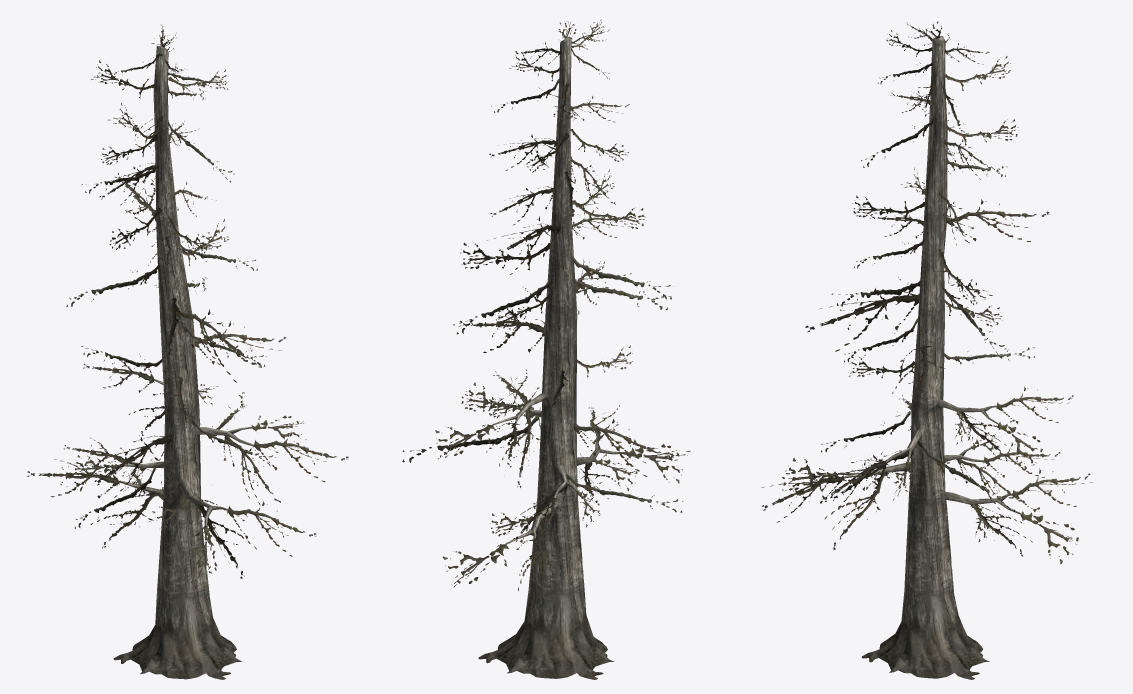
Rendered from tree_dry01.glb.
3 renders of one model, left to right at view 1: azimuth 30°, elevation 25°; view 2: azimuth 150°, elevation 25°; view 3: azimuth 270°, elevation 25°, orthographic. The views are drawn at different scales.
Parts seen in each view (by area): view 1: 0_arbre01_b; view 2: 0_arbre01_b; view 3: 0_arbre01_b.
Boxes of the visible parts, x1,y1,x2,y2 form: 0_arbre01_b: [27, 25, 348, 679]; 0_arbre01_b: [402, 19, 690, 679]; 0_arbre01_b: [761, 21, 1093, 679].
Size of the model in its own units: 6.11 by 14.34 by 7.89.
Materials: 1 (1 with a texture image).
